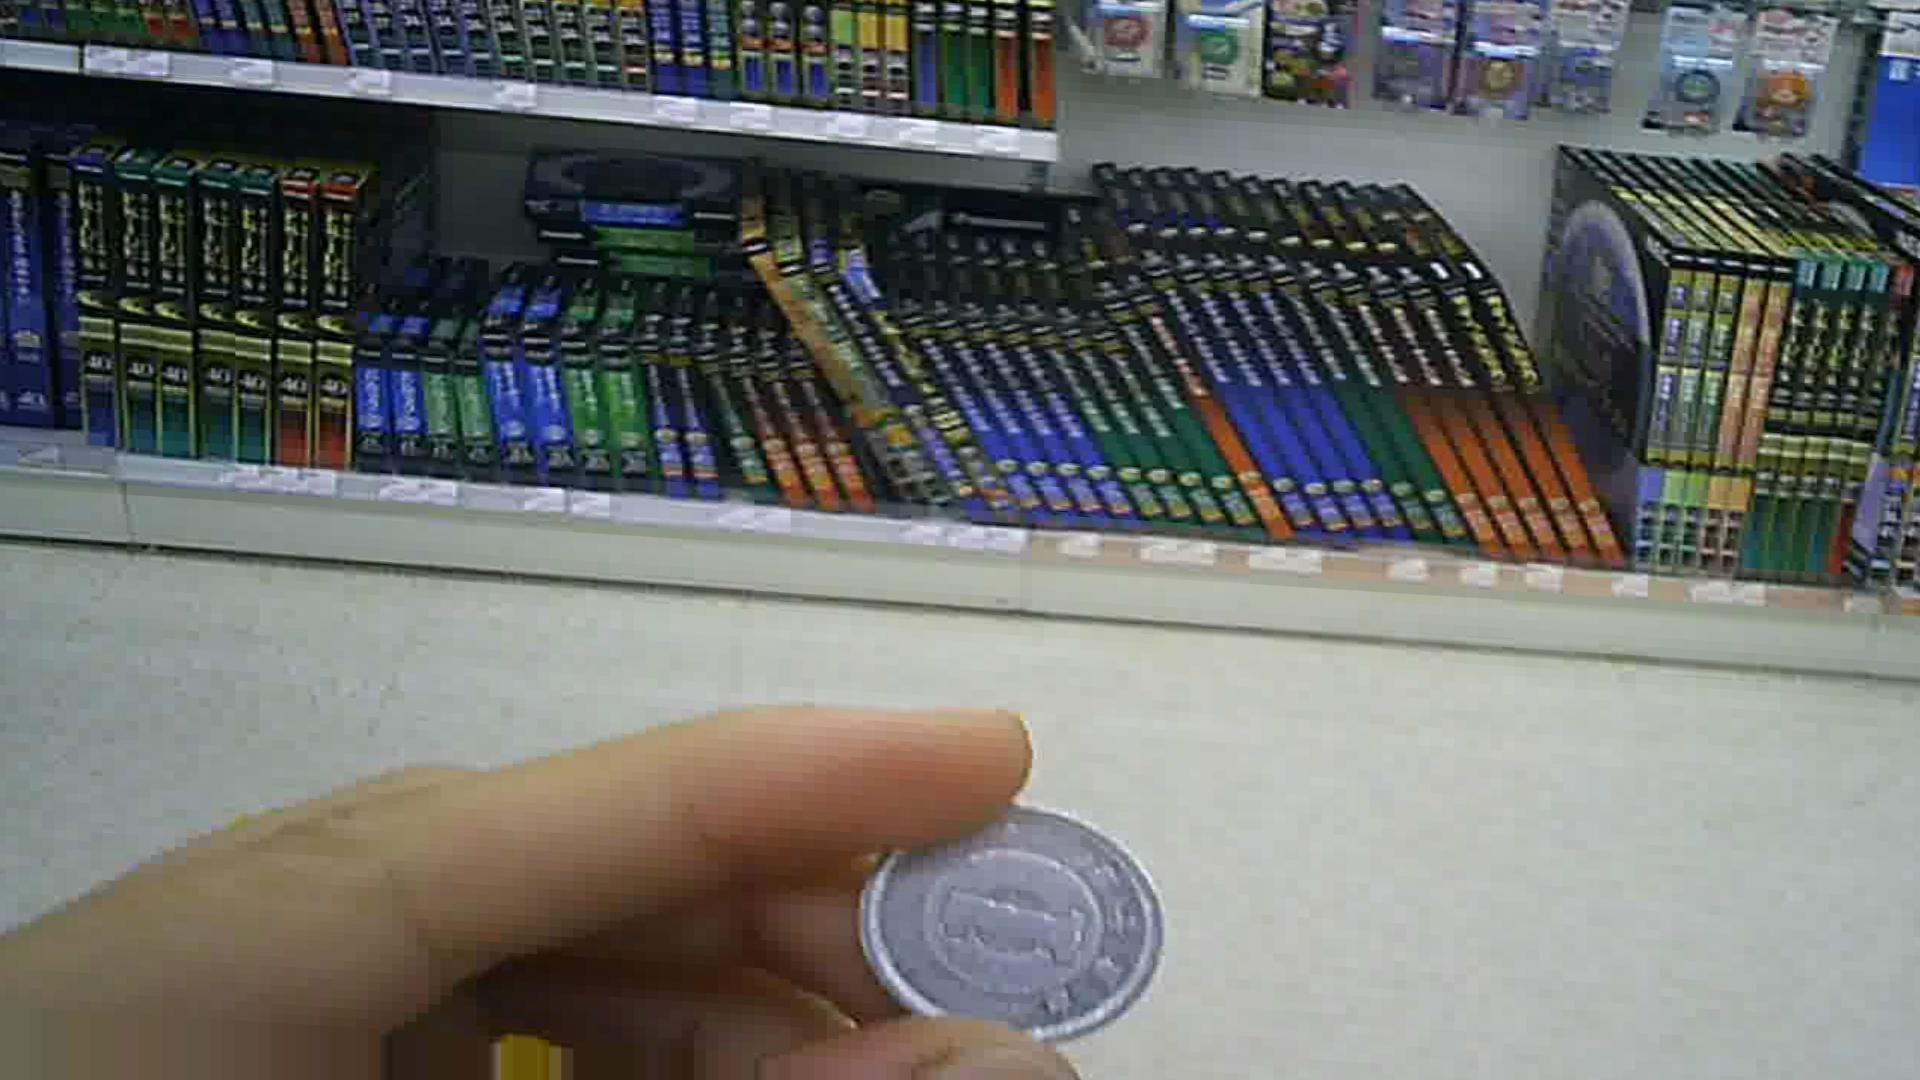1 Yen: (836, 785, 1167, 1033)
